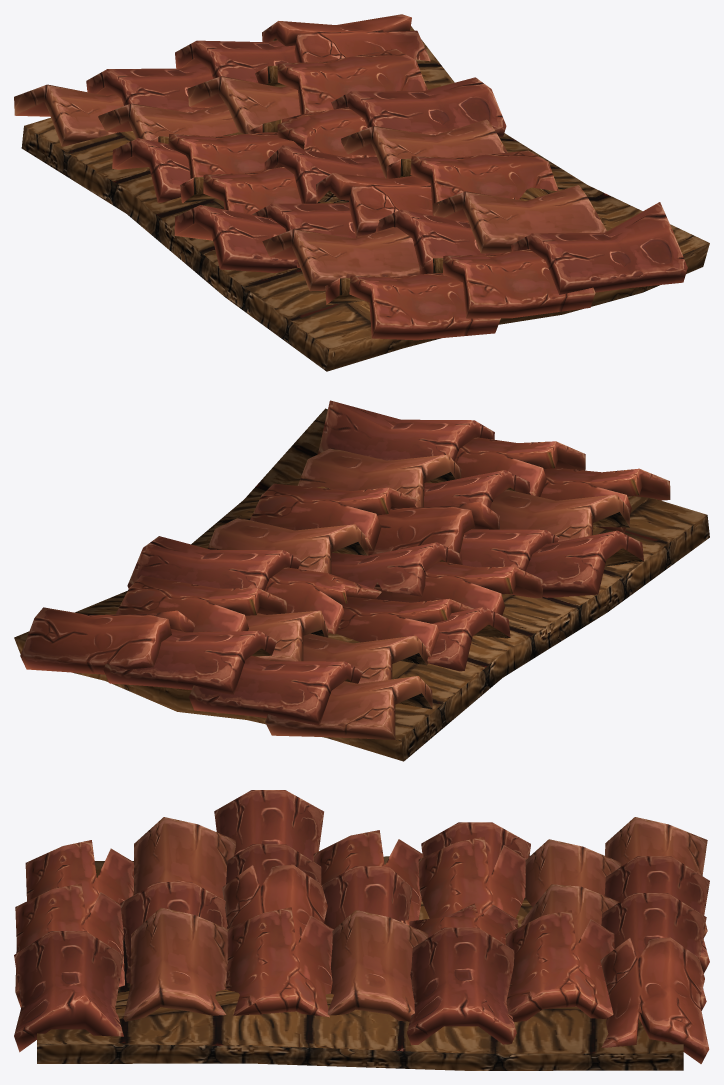
File: roof.fbx
The picture shows the model from 3 angles, top to bottom: view 1: azimuth 30°, elevation 25°; view 2: azimuth 150°, elevation 25°; view 3: azimuth 270°, elevation 25°; orthographic projection. The views are drawn at different scales.
Visible parts, largest first — view 1: roof; view 2: roof; view 3: roof.
Part boxes in pixels (x1=…): roof: x1=14, y1=14, x2=709, y2=371; roof: x1=14, y1=400, x2=709, y2=761; roof: x1=14, y1=790, x2=709, y2=1070.
Size of the model in its own units: 177 by 36.81 by 247.
